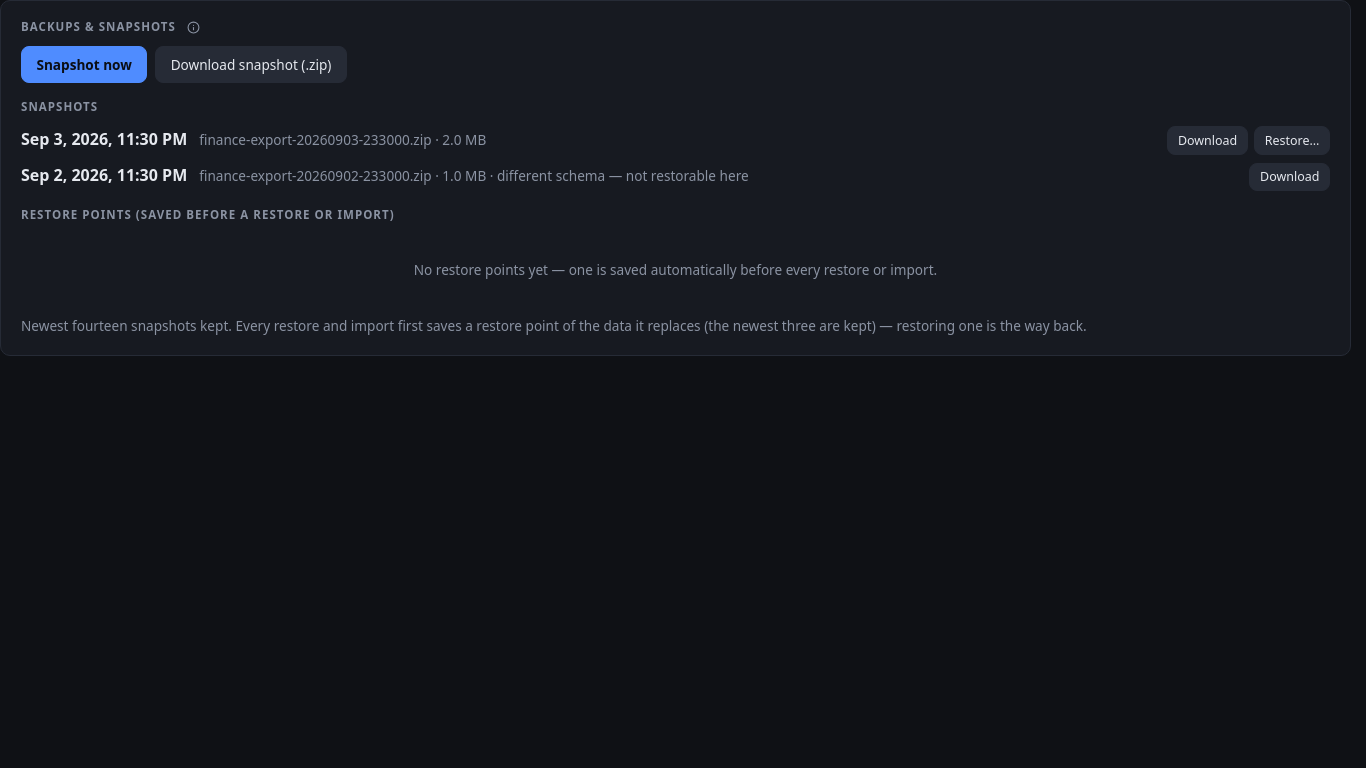
Test case: BackupsCard › Snapshot now prepends the new entry and toasts its name
Expected: the link "Restore…" is shown, 1254,126 -> 1330,155
Click the button "Snapshot now" at (84, 64), box 21,46 -> 147,83
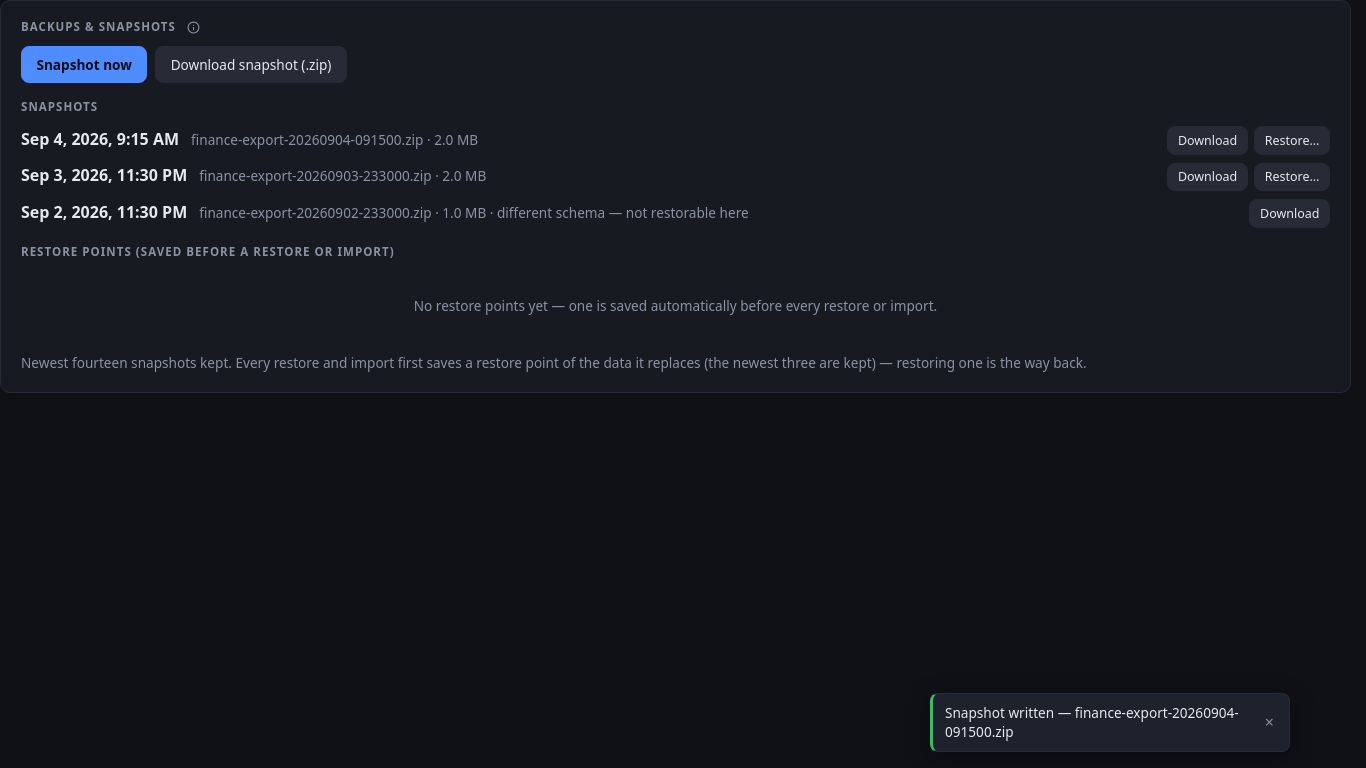
Expected: the number of list items is 3, 21,126 -> 1330,155; 21,162 -> 1330,191; 21,199 -> 1330,228
Expected: the list item that starts with "Sep 4, 2026, 9:15 AM" shows "finance-export-20260904-091500.zip", 191,130 -> 424,149
Expected: the text "Snapshot written — finance-export-20260904-091500.zip" is shown, 945,703 -> 1252,741
